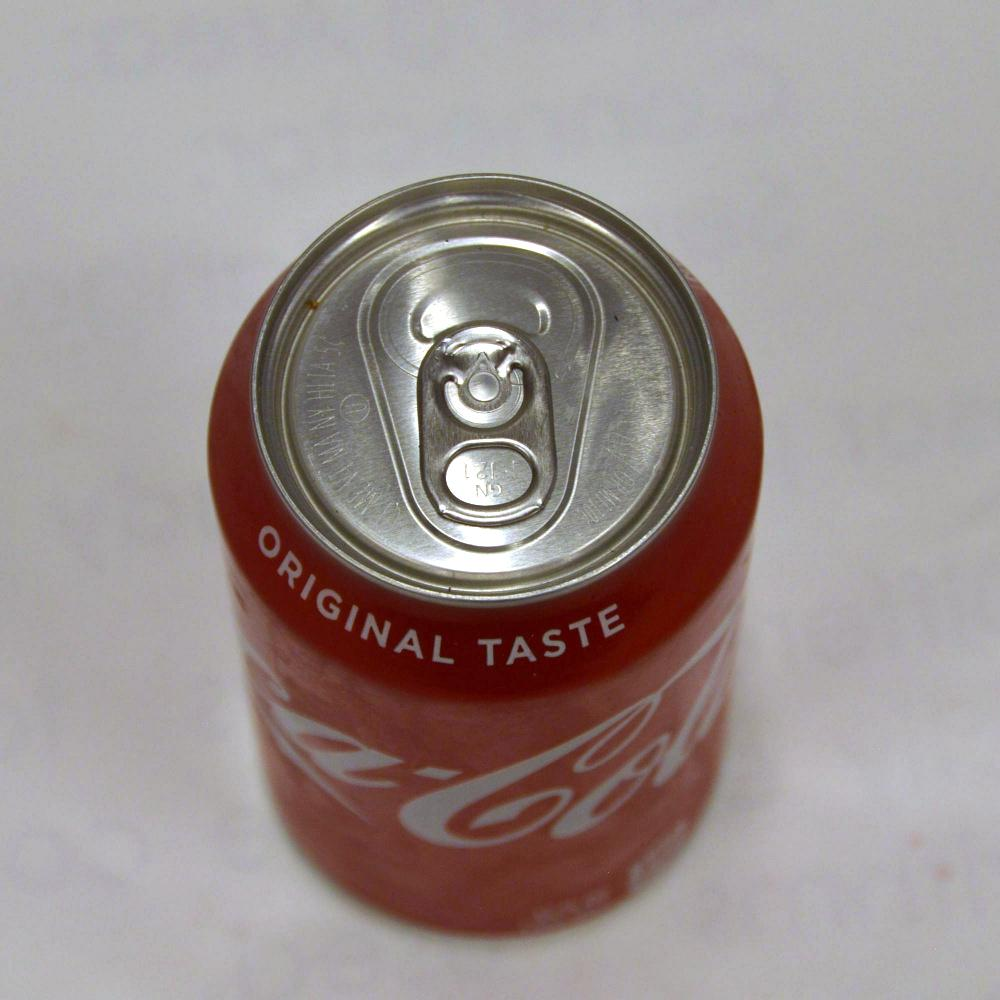Metal: (161, 142, 761, 943)
